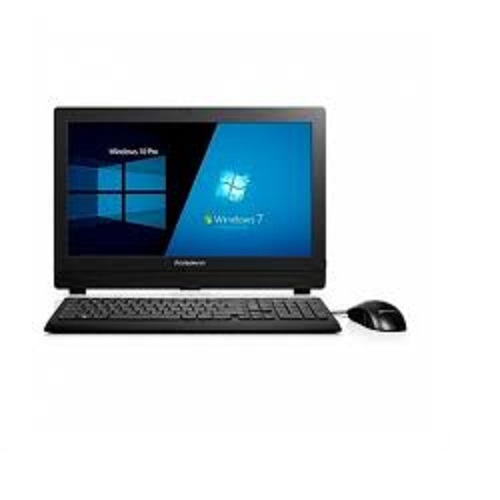Teclado: (44, 293, 342, 337)
